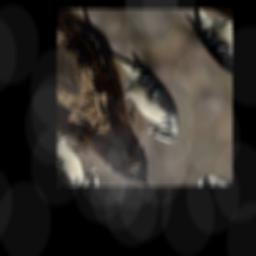Woodpecker: (83, 34, 195, 153)
